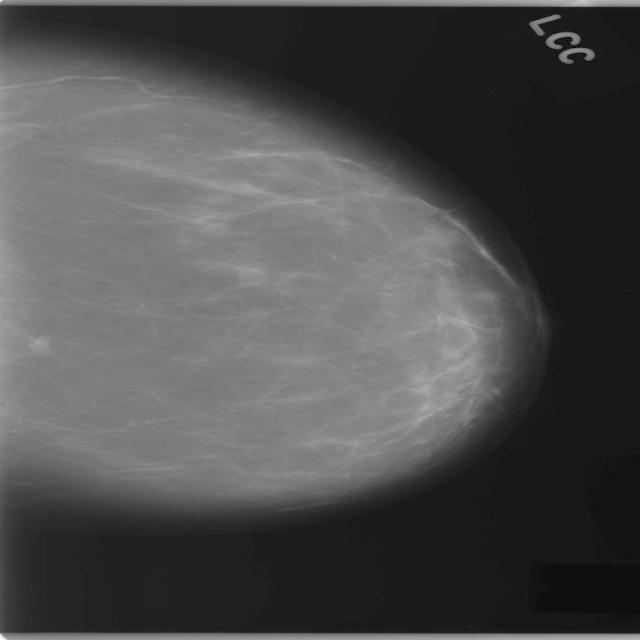tumour: (26, 334, 50, 354)
